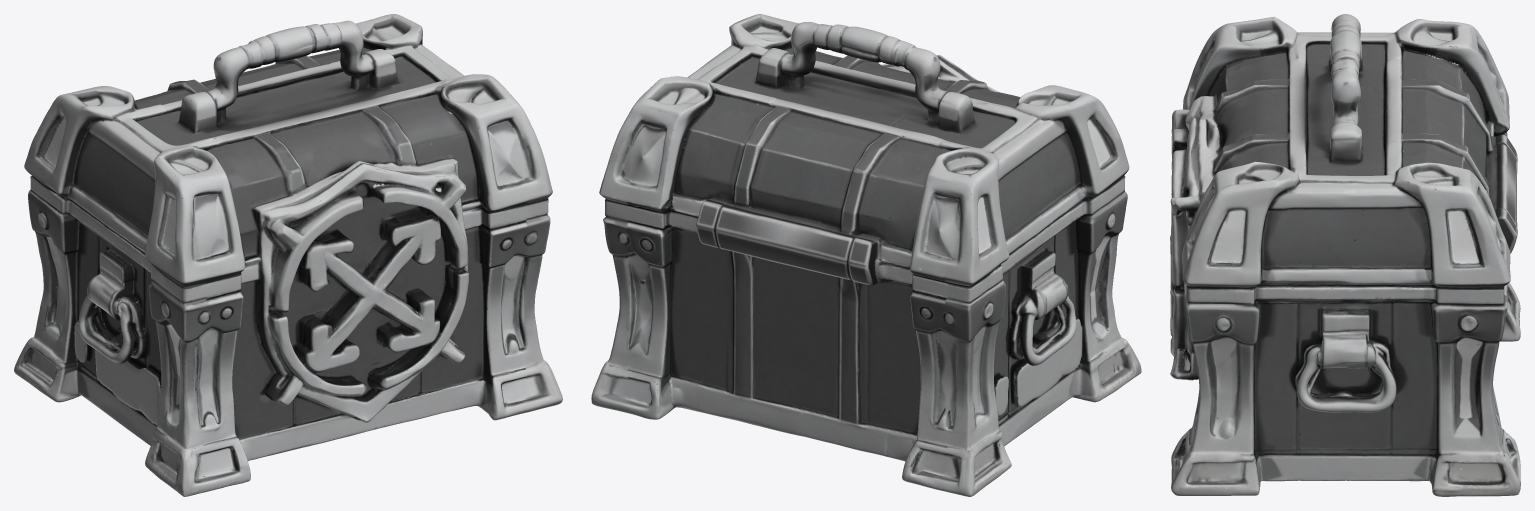
Rendered from Baul3d.backup.glb.
3 renders of one model, left to right at view 1: azimuth 30°, elevation 25°; view 2: azimuth 150°, elevation 25°; view 3: azimuth 270°, elevation 25°, orthographic.
Bounding box in the file's own units: 2 × 1.8 × 1.56.
1 material, 1 textured.
